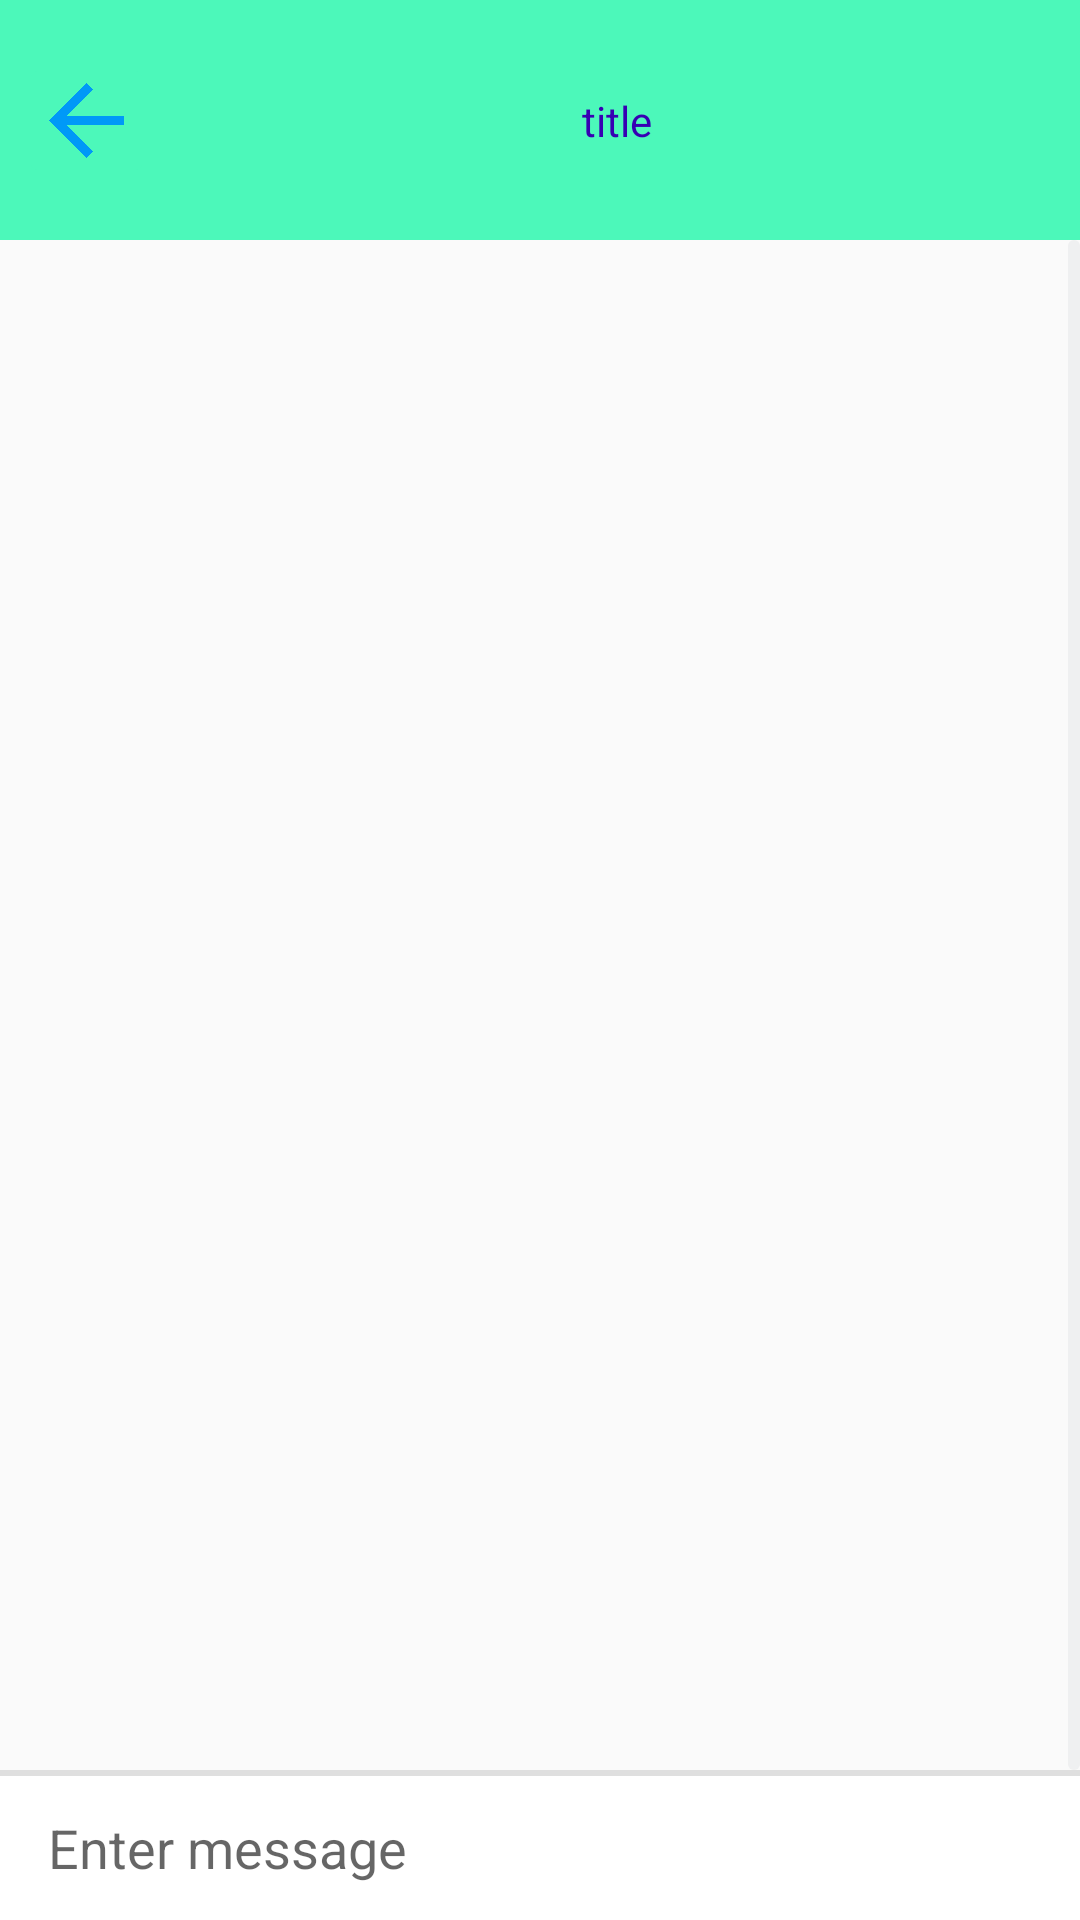

Screen size 1080w x 1920h. Icon name, then its box in pixels as [x1,y1,x2,y2]:
back: [49,83,124,158]
